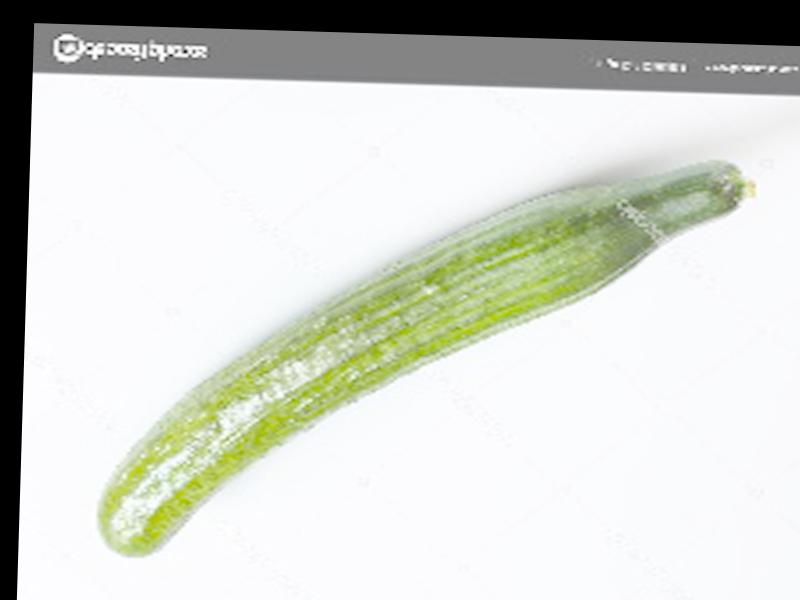Cucumber: (99, 146, 756, 575)
